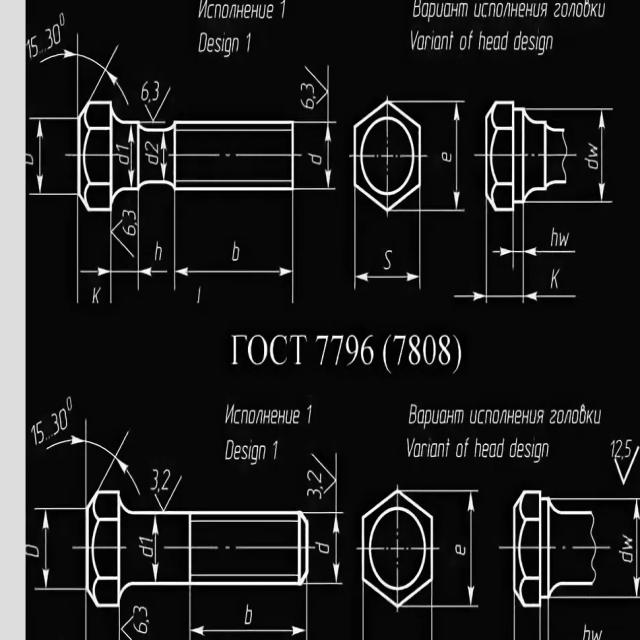marking_line: (174, 194, 298, 307), (454, 215, 583, 314), (45, 416, 142, 490), (188, 587, 311, 639), (37, 32, 126, 99), (351, 213, 424, 291), (522, 208, 578, 309), (435, 489, 480, 609), (423, 99, 467, 218), (492, 214, 580, 272), (568, 105, 616, 205), (449, 211, 497, 306), (33, 506, 83, 593), (75, 215, 118, 313), (26, 116, 77, 197), (134, 193, 170, 292), (295, 120, 340, 191), (310, 508, 346, 584), (112, 42, 129, 106), (150, 517, 162, 579), (159, 132, 167, 179), (128, 125, 134, 185), (334, 453, 340, 510)
numeric: (360, 334, 375, 367), (393, 334, 408, 367), (408, 333, 423, 366), (423, 334, 438, 365), (316, 333, 330, 366), (346, 334, 360, 366), (331, 335, 345, 366), (439, 334, 451, 365), (314, 538, 329, 557), (616, 551, 635, 566), (307, 150, 323, 166), (36, 420, 46, 445), (150, 468, 160, 492), (244, 601, 253, 627), (621, 532, 634, 550), (140, 79, 149, 103), (162, 468, 171, 492), (145, 140, 160, 154), (30, 423, 38, 449), (232, 238, 241, 261), (59, 408, 68, 431), (132, 622, 149, 634), (50, 411, 58, 436), (151, 80, 160, 102), (298, 98, 316, 109), (453, 542, 467, 556), (121, 209, 137, 221), (132, 604, 148, 616), (299, 82, 316, 93), (306, 403, 314, 425), (122, 225, 136, 237), (615, 438, 622, 460), (115, 143, 130, 153), (195, 287, 203, 305), (271, 440, 278, 460), (625, 439, 631, 457), (67, 397, 72, 411), (611, 439, 615, 456)
special_symbol: (306, 453, 335, 496), (153, 471, 184, 510), (615, 445, 640, 487), (143, 85, 170, 121), (304, 67, 327, 108), (116, 609, 133, 640), (80, 593, 91, 639)
